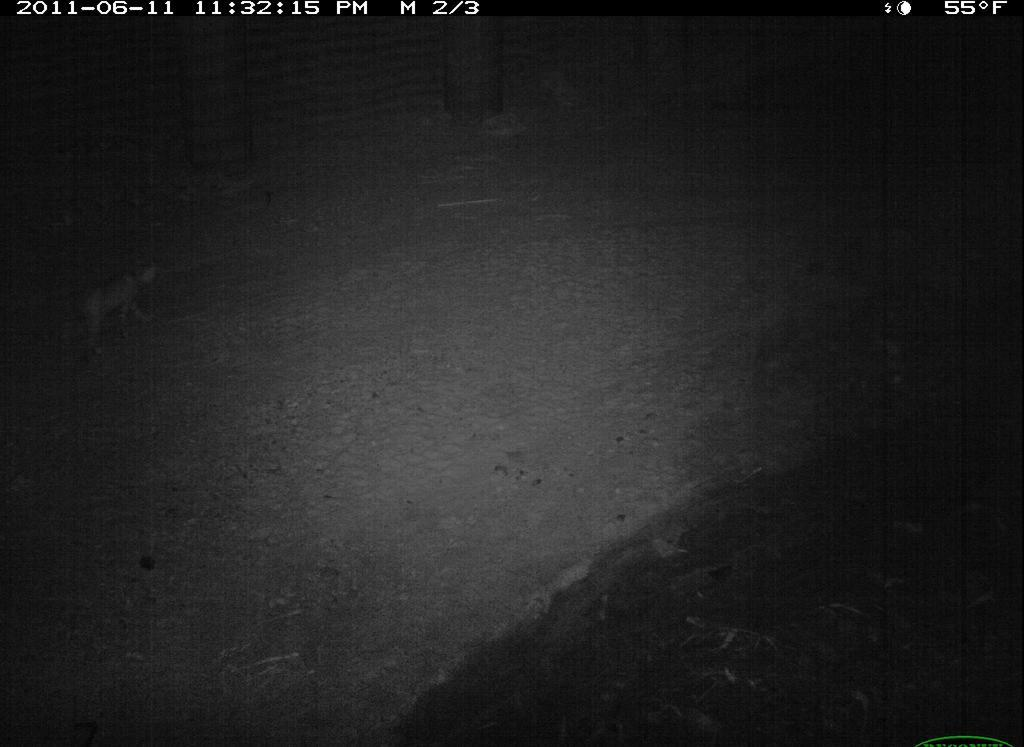bobcat: (65, 249, 182, 360)
